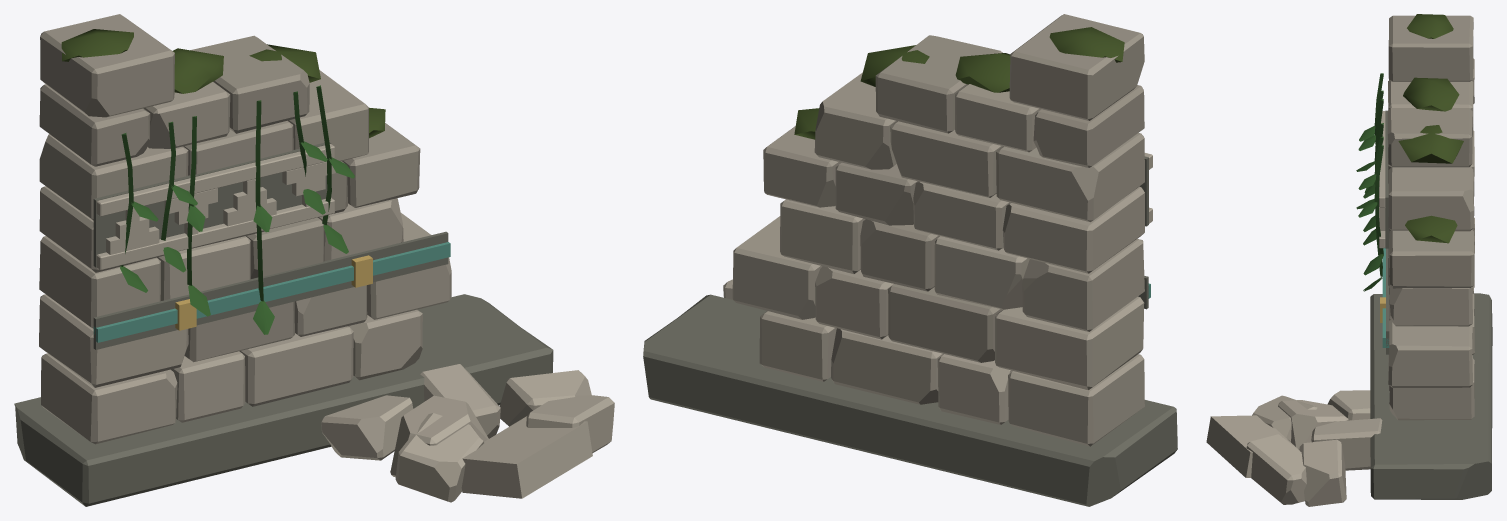
The model's file is zr_ruin_wall.glb.
The picture shows the model from 3 angles, left to right: view 1: azimuth 30°, elevation 25°; view 2: azimuth 150°, elevation 25°; view 3: azimuth 270°, elevation 25°; orthographic projection. The views are drawn at different scales.
Visible parts, largest first — view 1: zr_ruin_wall; view 2: zr_ruin_wall; view 3: zr_ruin_wall.
Boxes of the visible parts, bbox=[...] form: zr_ruin_wall: bbox=[14, 14, 614, 506]; zr_ruin_wall: bbox=[643, 14, 1177, 506]; zr_ruin_wall: bbox=[1206, 14, 1492, 506].
Size of what is drawn, in the model's own units: 4.46 by 3.98 by 3.06.
